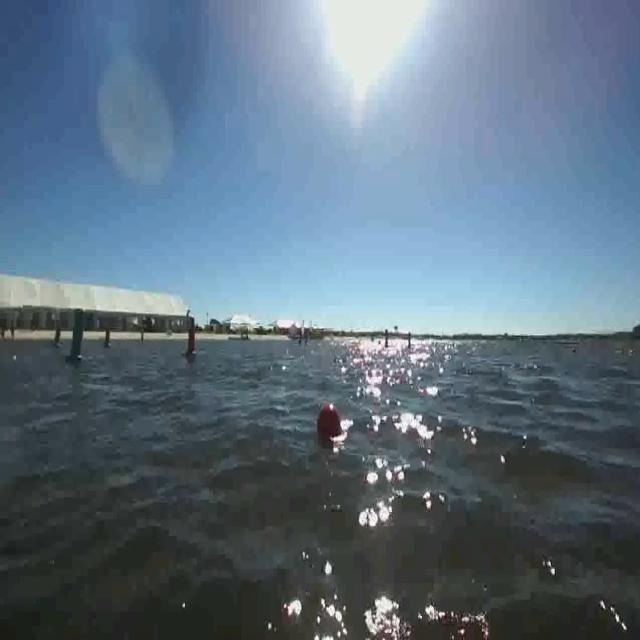green-column-buoy: (66, 308, 88, 364), (54, 324, 64, 350)
red-buoy: (315, 399, 345, 443)
red-column-buoy: (184, 319, 198, 360), (103, 328, 113, 351)
